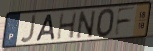A: (34, 13, 56, 43)
F: (113, 6, 137, 38)
H: (56, 11, 79, 41)
J: (20, 13, 38, 44)
N: (76, 9, 97, 41)
O: (95, 7, 116, 40)
